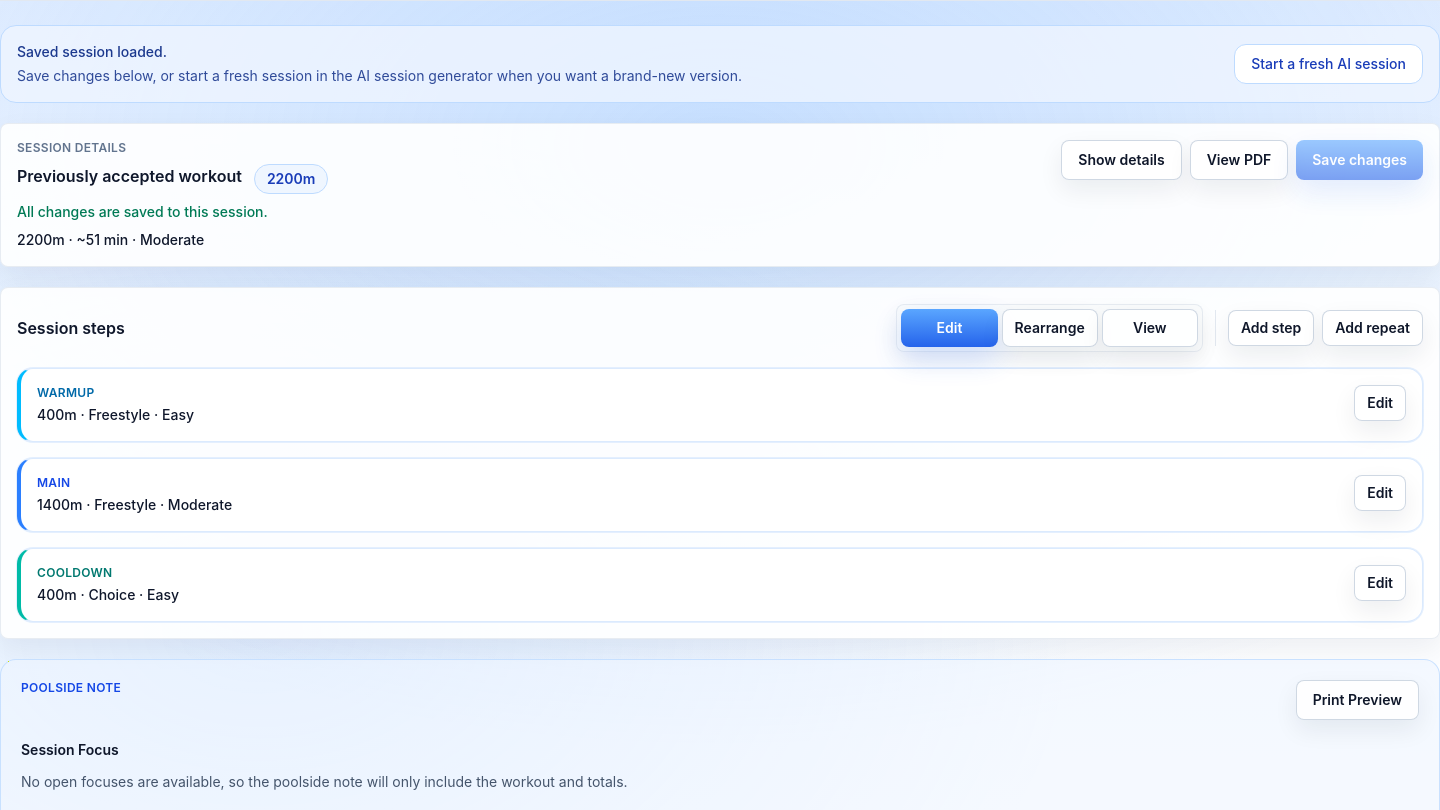
Scenario: SessionGeneratorPanel › loads a previously accepted workout into the same editor
Check: the text "Saved session loaded." is shown, box [17,43,167,60]
What coordinates should you click on to do the following:
click the button with test id "workout-editor-metadata-toggle"
I would click on:
 (1122, 160)
Its box is [1061,140,1182,180].
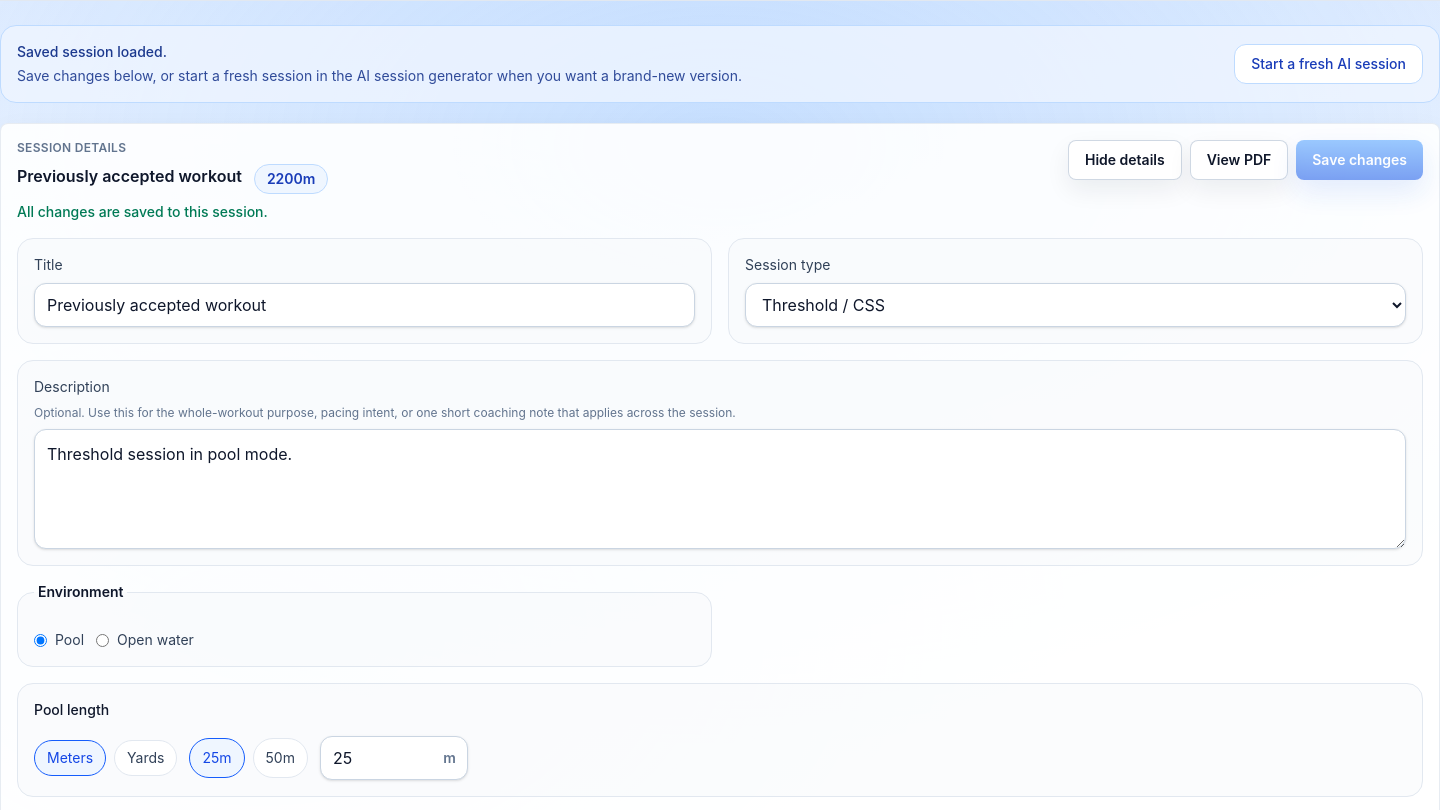
Check: the button "Save changes" is shown, box [1296,140,1423,180]
Check: the button with test id "workout-editor-metadata-toggle" is expanded, box [1068,140,1182,180]
Check: the field with test id "session-draft-title" holds "Previously accepted workout", box [34,283,695,327]
